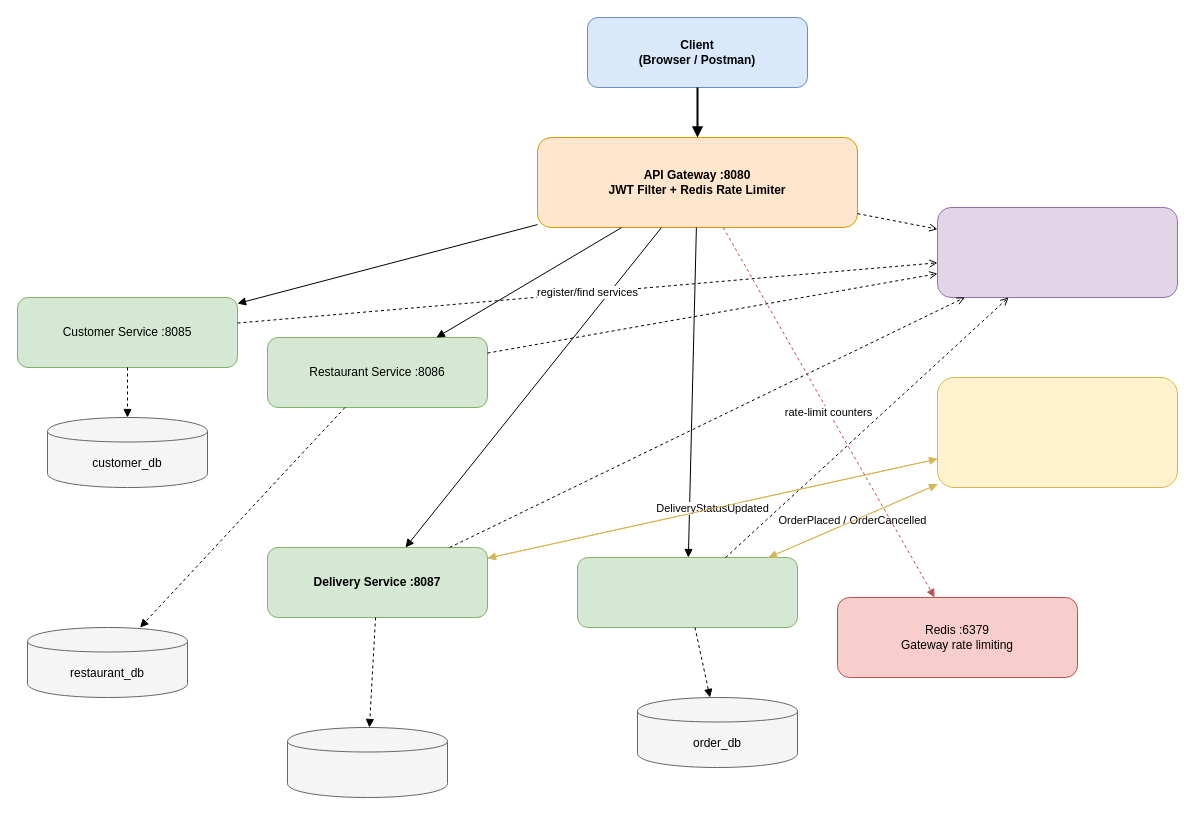
This 1195x815 diagram has some shape labels left out. Here are the shapes that lost their labels. From the top down, the box of each, then its label:
(936, 206, 1178, 298): Eureka Server :8761 Service Registry
(936, 376, 1178, 488): RabbitMQ :5672 order.exchange / delivery.exchange DLQ enabled
(576, 556, 798, 628): Order Service :8088
(286, 726, 448, 798): delivery_db
